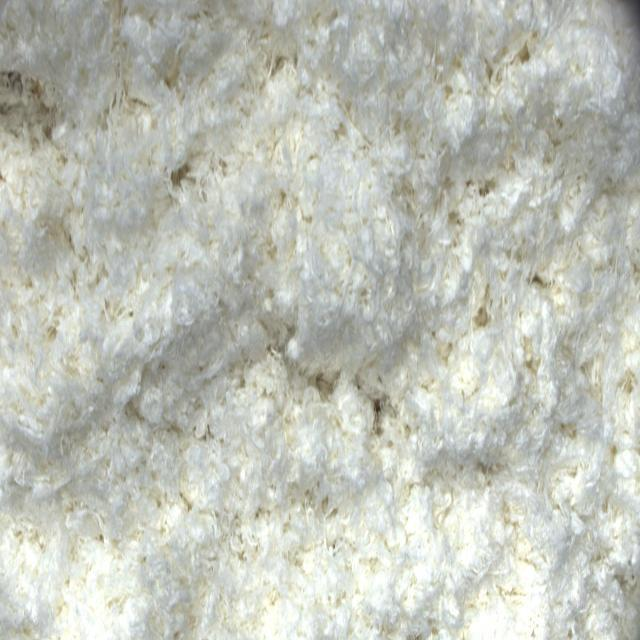dust: (373, 390, 396, 438)
